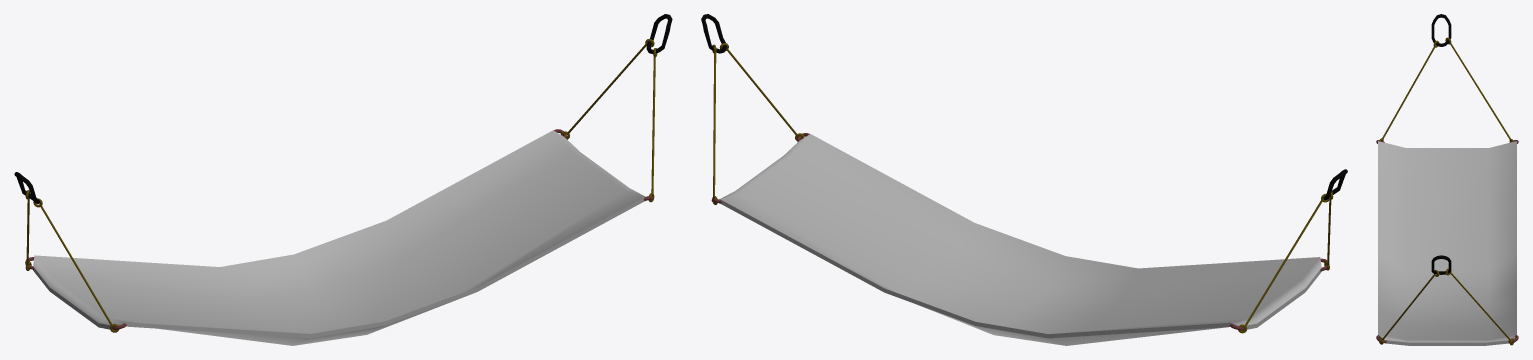
File: Hammock.fbx
The picture shows the model from 3 angles, left to right: view 1: azimuth 30°, elevation 25°; view 2: azimuth 150°, elevation 25°; view 3: azimuth 270°, elevation 25°; orthographic projection. The views are drawn at different scales.
Visible parts, largest first — view 1: polySurface286; view 2: polySurface286; view 3: polySurface286.
Boxes of the visible parts, x1,y1,x2,y2 form: polySurface286: (14, 14, 672, 345); polySurface286: (701, 14, 1347, 345); polySurface286: (1376, 14, 1518, 345).
Size of the model in its own units: 1214 by 397 by 301.
